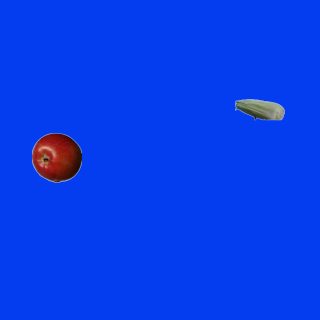Apple Braeburn: (31, 132, 81, 182)
Corn Husk: (234, 84, 284, 134)
